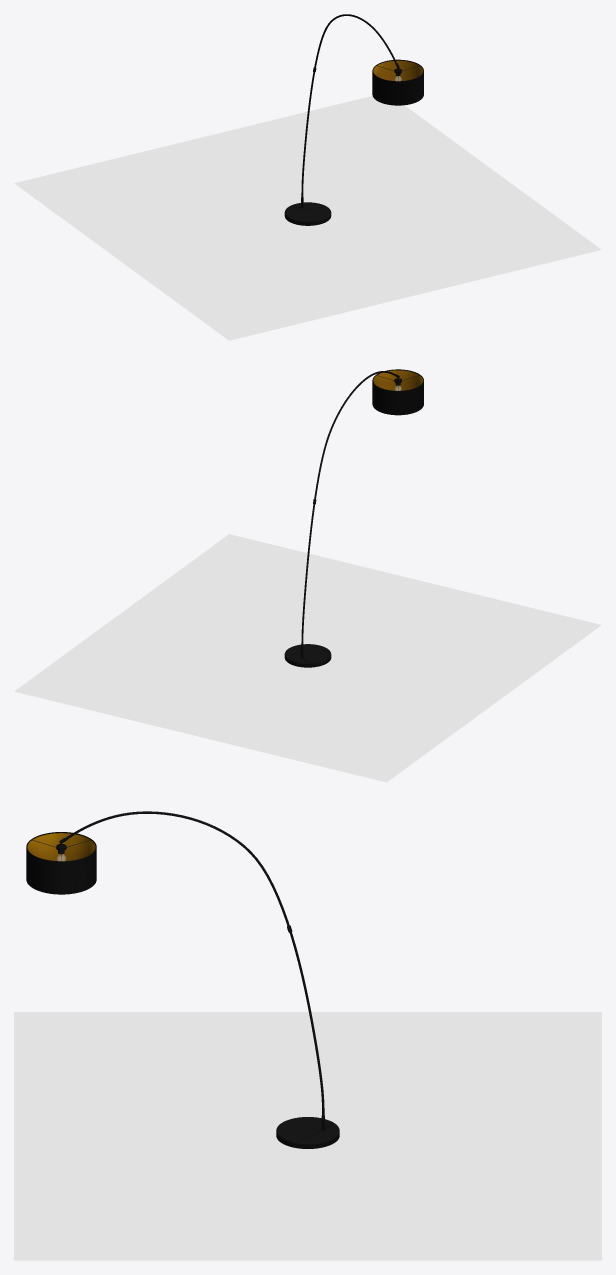
3 renders of one model, top to bottom at view 1: azimuth 30°, elevation 25°; view 2: azimuth 150°, elevation 25°; view 3: azimuth 270°, elevation 25°, orthographic. The views are drawn at different scales.
Visible parts, largest first — view 1: FLOOR, STEEL_MATT_GREY, LAMP_SHADE, COPPER; view 2: FLOOR, STEEL_MATT_GREY, LAMP_SHADE, COPPER; view 3: FLOOR, STEEL_MATT_GREY, LAMP_SHADE, COPPER.
Part boxes in pixels (box(x1,y1,x2,y2)): FLOOR: box(14, 96, 601, 340); STEEL_MATT_GREY: box(284, 14, 401, 225); LAMP_SHADE: box(372, 59, 423, 105); COPPER: box(373, 60, 423, 81); FLOOR: box(14, 534, 601, 782); STEEL_MATT_GREY: box(284, 371, 401, 667); LAMP_SHADE: box(372, 369, 423, 415); COPPER: box(373, 370, 423, 390); FLOOR: box(14, 1012, 601, 1260); STEEL_MATT_GREY: box(56, 811, 339, 1148); LAMP_SHADE: box(26, 832, 96, 894); COPPER: box(27, 833, 95, 861).
Size of the model in its own units: 334 by 204 by 334.
8 materials, 6 textured.
